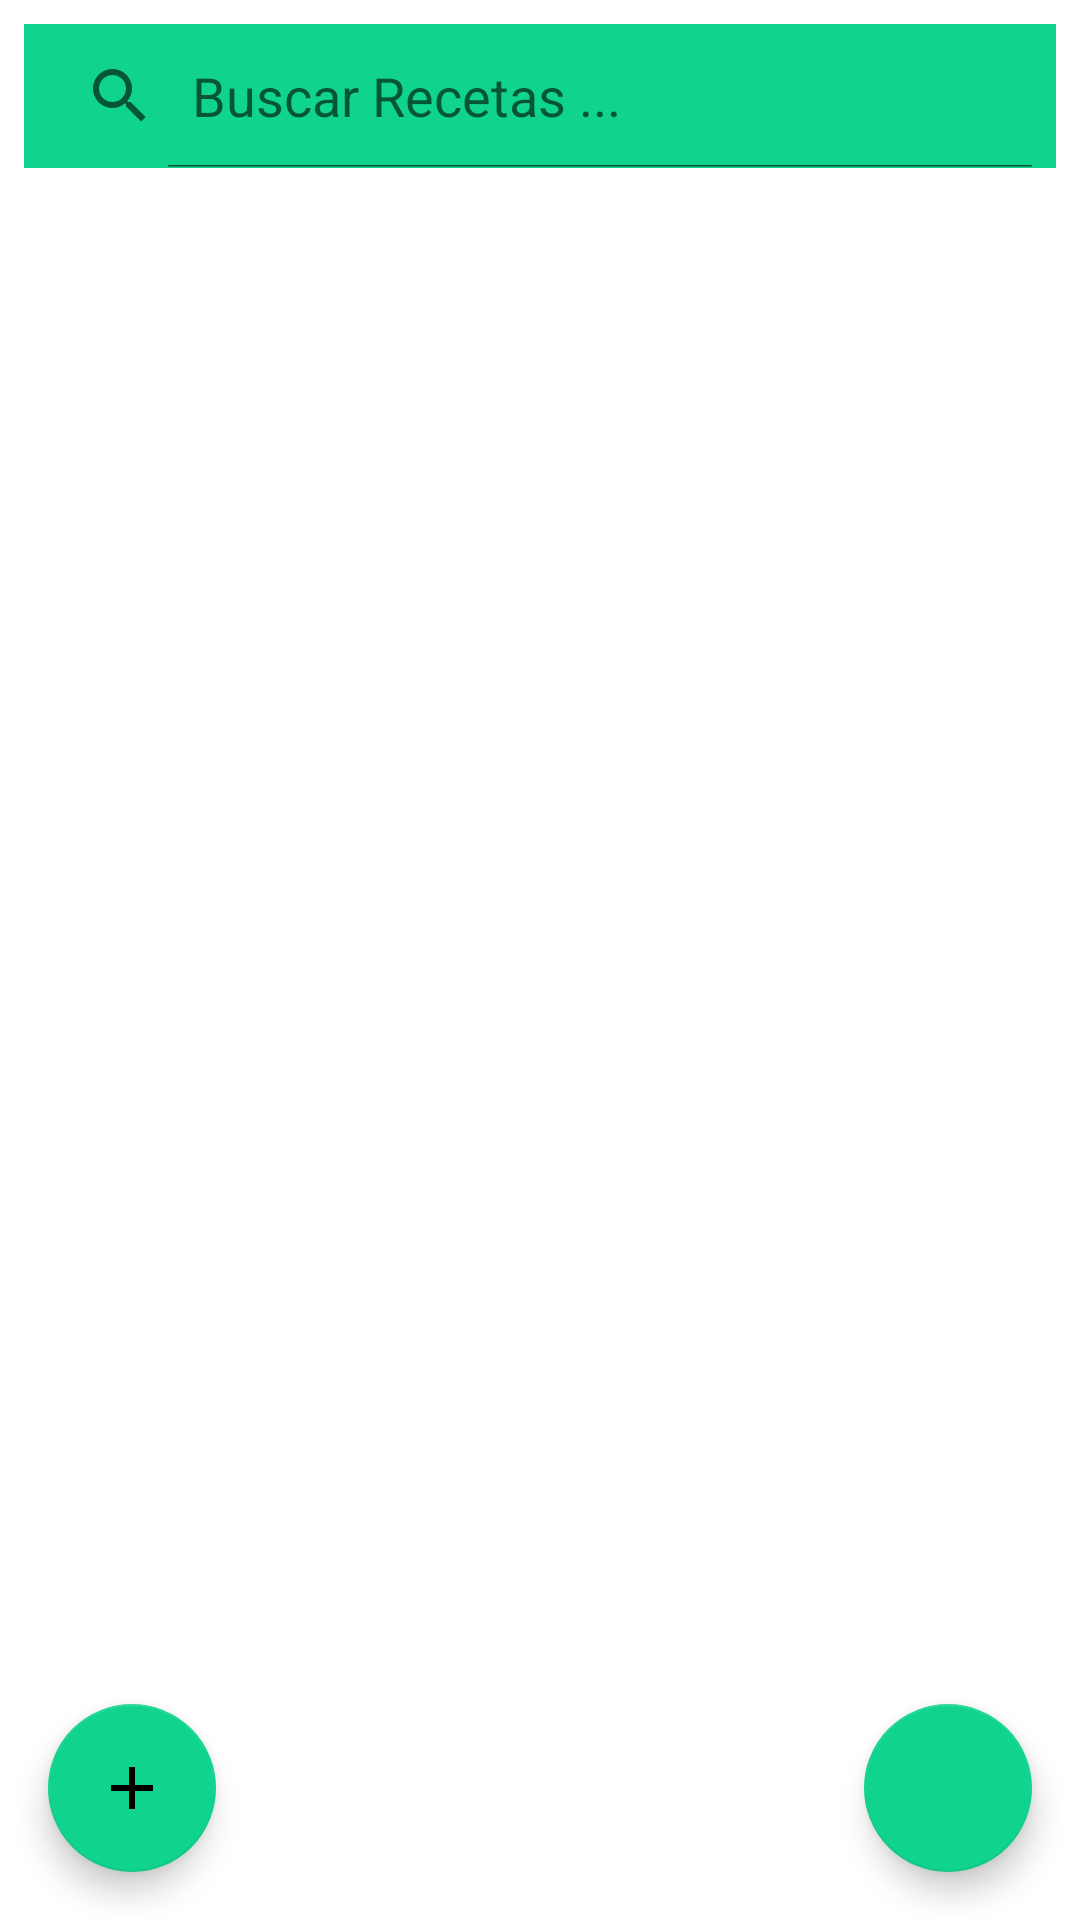

Screen size 1080x1920. Icon name, then its center in pixels as (x=x, y=y):
add: (x=132, y=1788)
